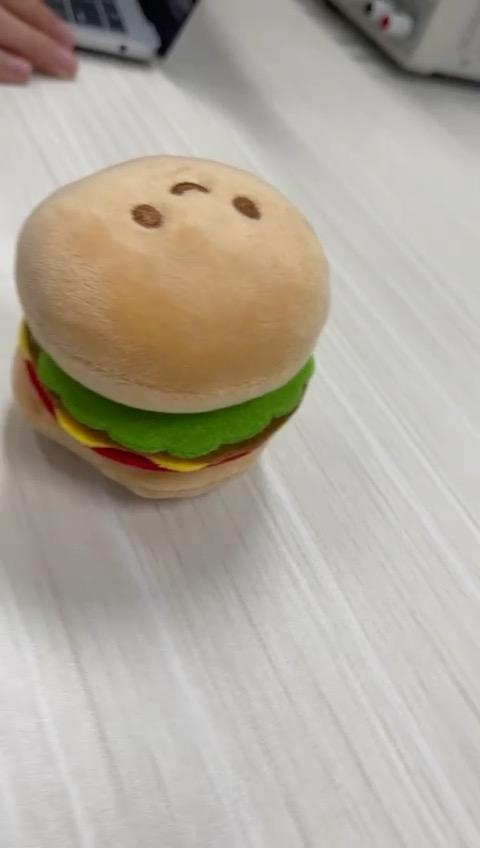hamburger: (11, 153, 333, 500)
